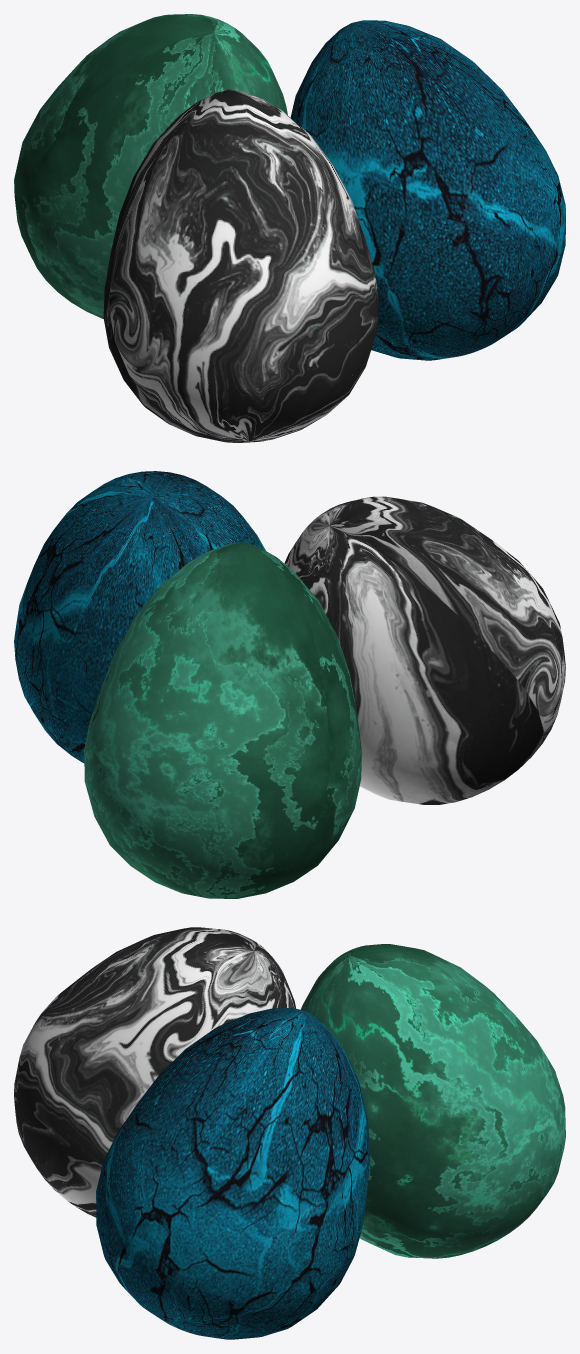
File: huevosGrandes.obj
3 renders of one model, top to bottom at view 1: azimuth 30°, elevation 25°; view 2: azimuth 150°, elevation 25°; view 3: azimuth 270°, elevation 25°, orthographic. The views are drawn at different scales.
Visible parts, largest first — view 1: Sphere.009, Sphere.007, Sphere.008; view 2: Sphere.008, Sphere.009, Sphere.007; view 3: Sphere.007, Sphere.008, Sphere.009.
Part boxes in pixels (box(x1,y1,x2,y2)): Sphere.009: box(103, 89, 378, 442); Sphere.007: box(290, 20, 565, 360); Sphere.008: box(14, 14, 287, 318); Sphere.008: box(84, 542, 361, 898); Sphere.009: box(284, 496, 565, 804); Sphere.007: box(14, 471, 265, 763); Sphere.007: box(96, 1008, 370, 1339); Sphere.008: box(301, 944, 565, 1258); Sphere.009: box(14, 927, 295, 1217).
Size of the model in its own units: 14.83 by 9.35 by 15.53.
